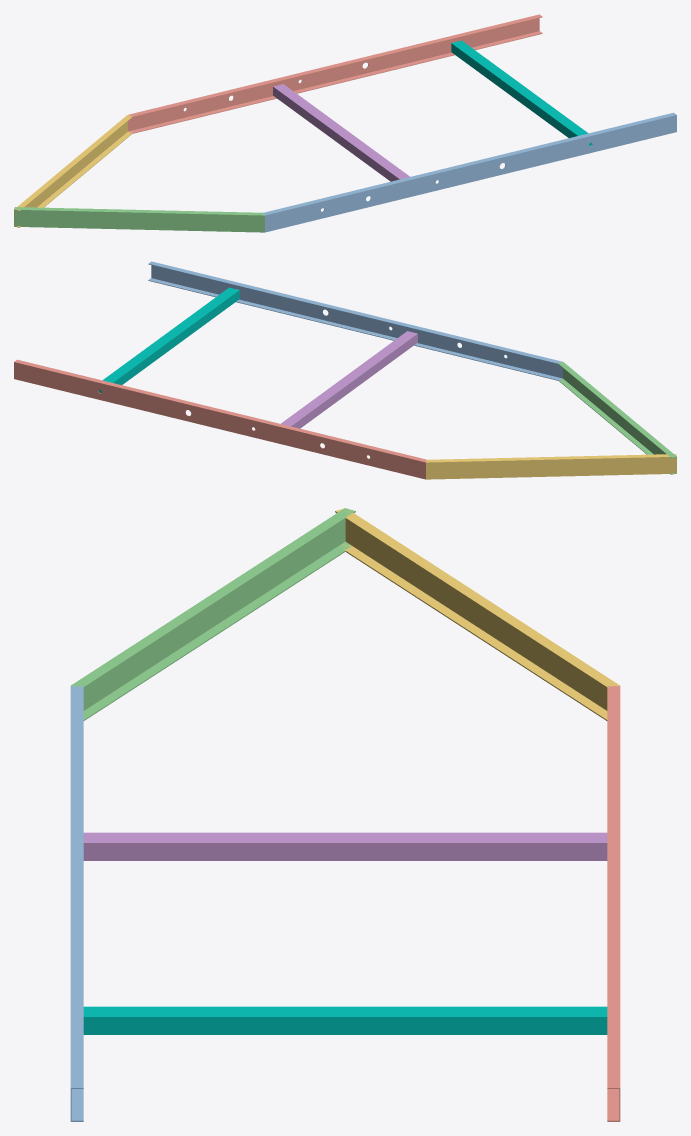
The picture shows the model from 3 angles, top to bottom: view 1: azimuth 30°, elevation 25°; view 2: azimuth 150°, elevation 25°; view 3: azimuth 270°, elevation 25°; orthographic projection. The views are drawn at different scales.
Parts seen in each view (by area): view 1: part_0, part_1, part_2, =>[0:1:1:14], =>[0:1:1:11], part_3; view 2: part_1, part_0, part_3, =>[0:1:1:14], =>[0:1:1:11], part_2; view 3: =>[0:1:1:11], =>[0:1:1:14], part_2, part_3, part_0, part_1.
Part boxes in pixels (x1,y1,x2,y2): part_0: [262, 112, 676, 232]; part_1: [128, 14, 542, 133]; part_2: [14, 207, 264, 232]; =>[0:1:1:14]: [451, 40, 591, 145]; =>[0:1:1:11]: [273, 84, 409, 181]; part_3: [14, 115, 132, 227]; part_1: [14, 359, 427, 479]; part_0: [148, 261, 562, 380]; part_3: [426, 454, 676, 479]; =>[0:1:1:14]: [99, 287, 239, 392]; =>[0:1:1:11]: [281, 331, 417, 428]; part_2: [558, 362, 676, 474]; =>[0:1:1:11]: [83, 832, 607, 860]; =>[0:1:1:14]: [83, 1006, 607, 1034]; part_2: [71, 508, 355, 720]; part_3: [335, 508, 619, 720]; part_0: [70, 686, 83, 1121]; part_1: [607, 686, 620, 1121].
Bounding box in the file's own units: 3101 × 85 × 1243.
